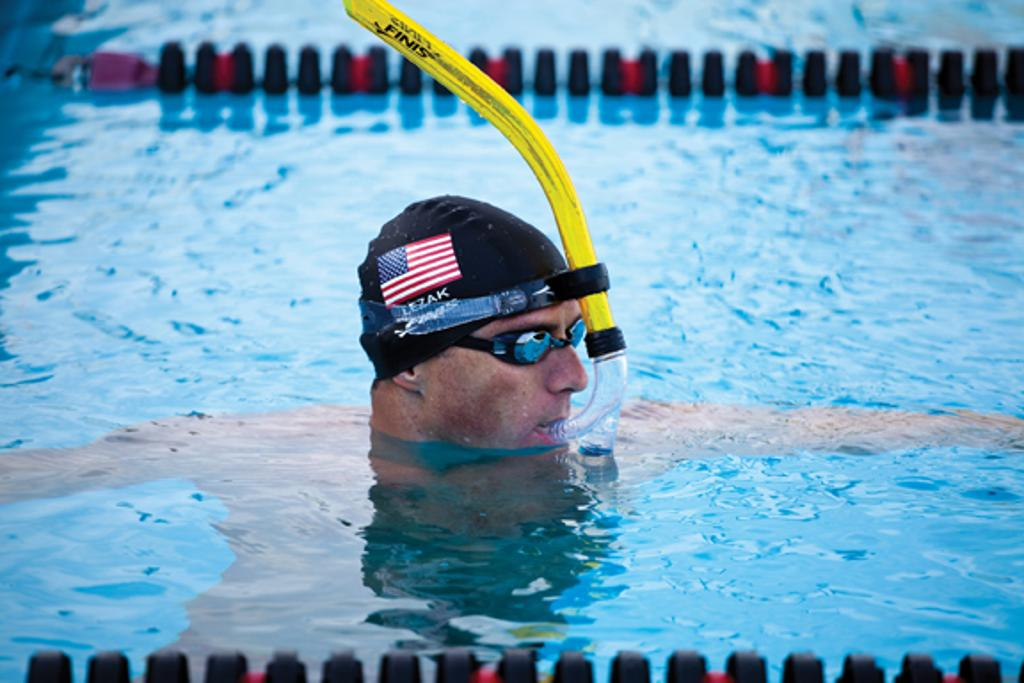face: (428, 274, 586, 476)
